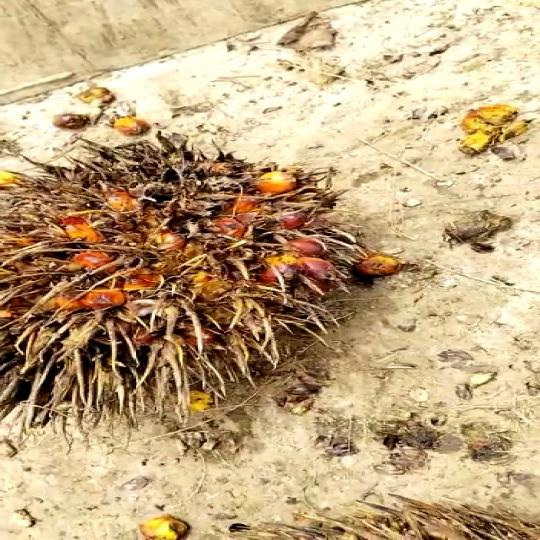terlalu masak: (0, 123, 431, 462)
